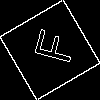F: (25, 25, 77, 66)
